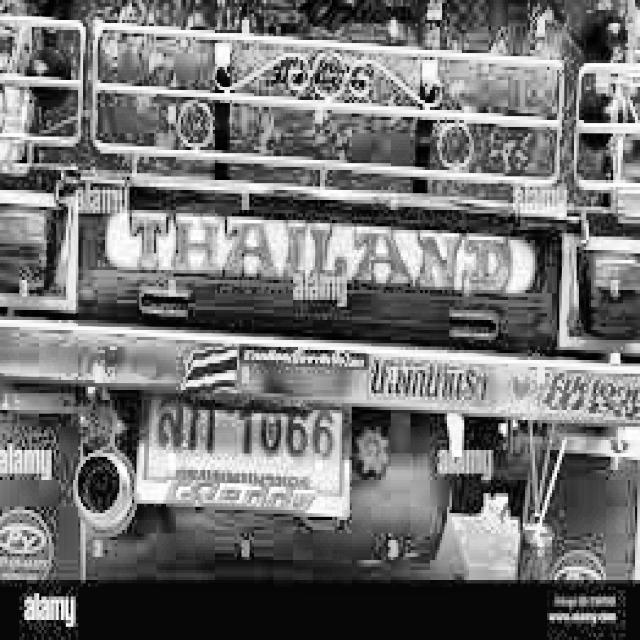license-plate: (135, 380, 353, 513)
